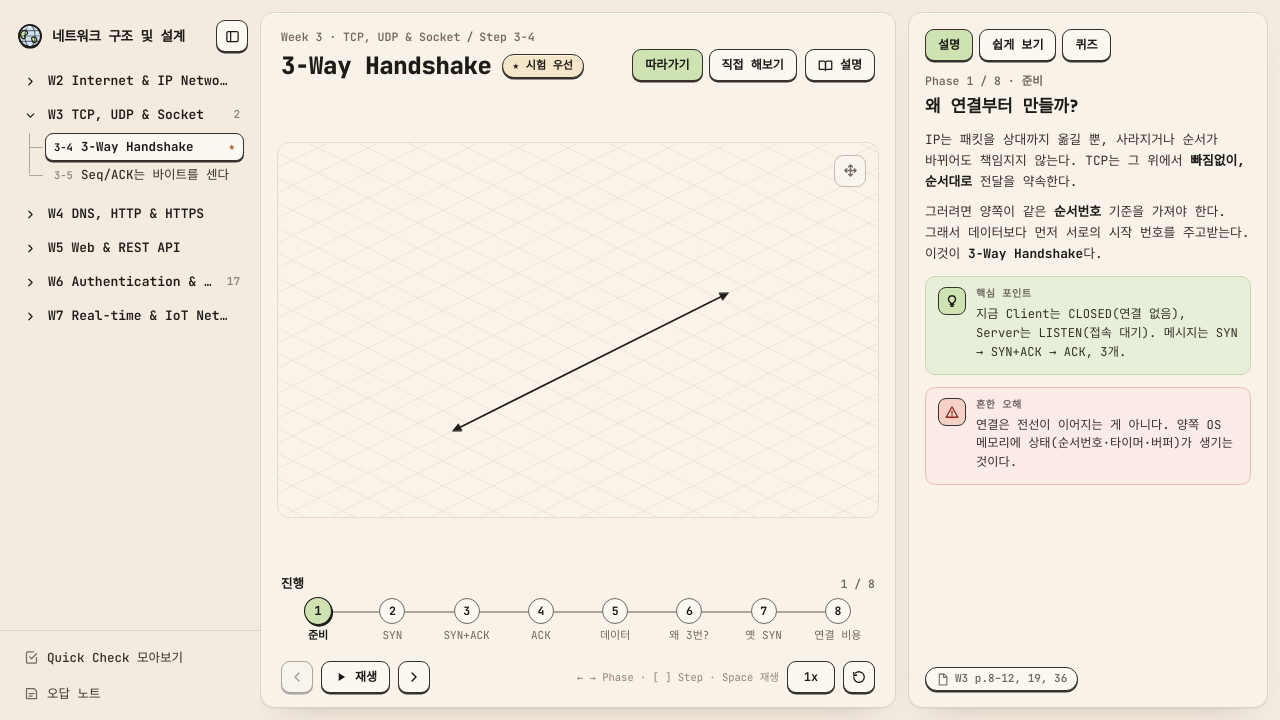
Scenario: 3-4 직접 해보기 › SYN 손실을 켜면 이벤트 로그에 재전송이 기록된다
The width and height of the screenshot is (1280, 720).
Later steps or results of the test are not shown.
What coordinates should you click on to do the following:
click the button "직접 해보기"
I would click on:
 (753, 65)
Its box is [708, 49, 797, 81].
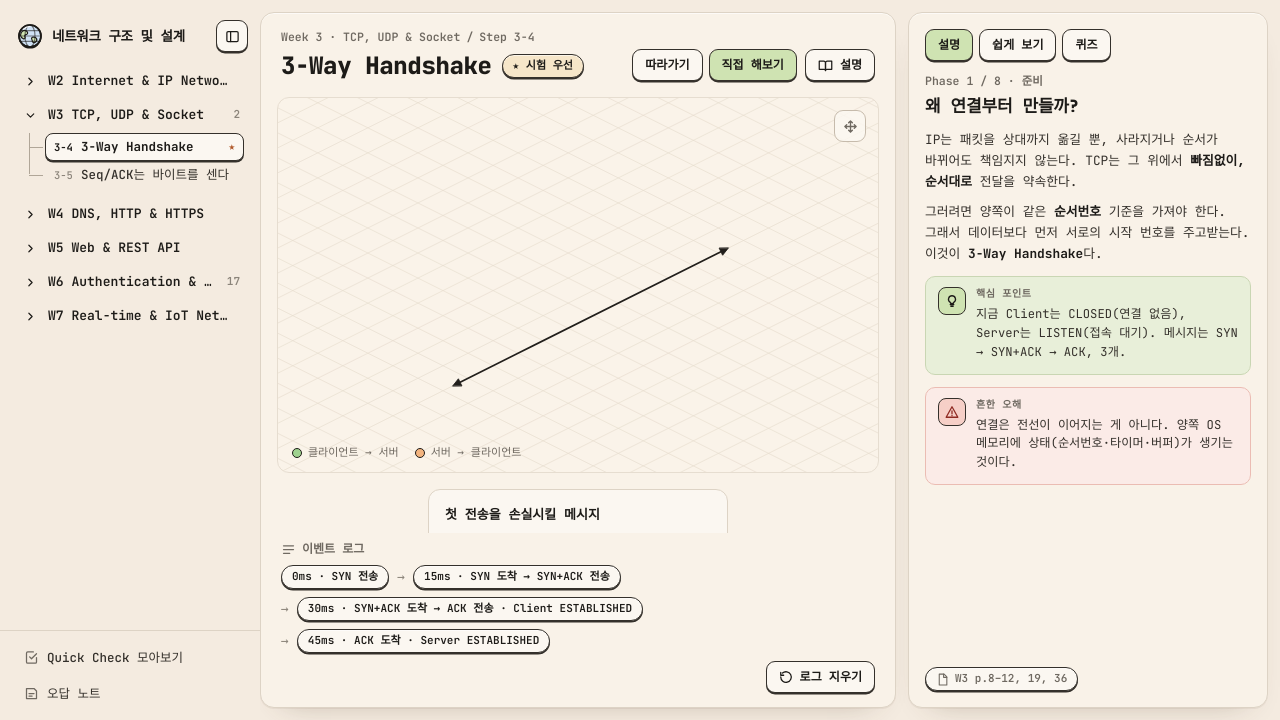
Now the footer "이벤트 로그" shows "Client ESTABLISHED", box [308, 601, 632, 615]
